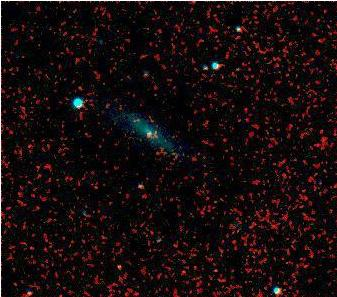star: (133, 118, 163, 148)
